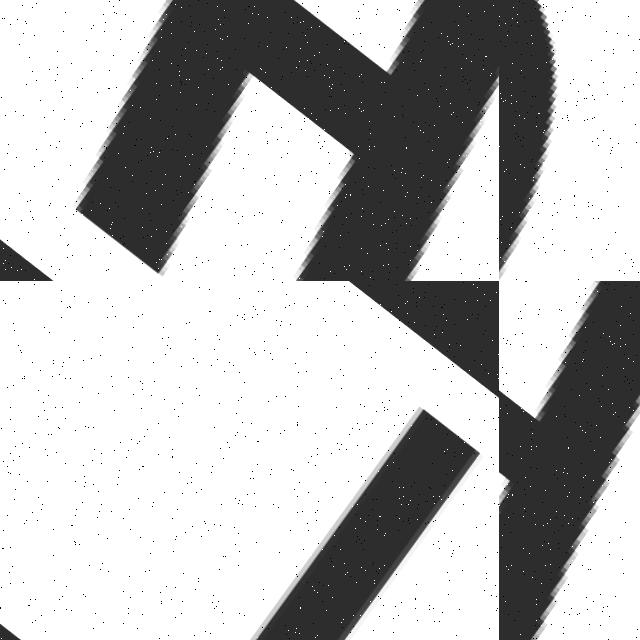H: (0, 0, 499, 281)
L: (0, 281, 494, 640)
O: (499, 0, 563, 273)
P: (499, 281, 640, 640)
